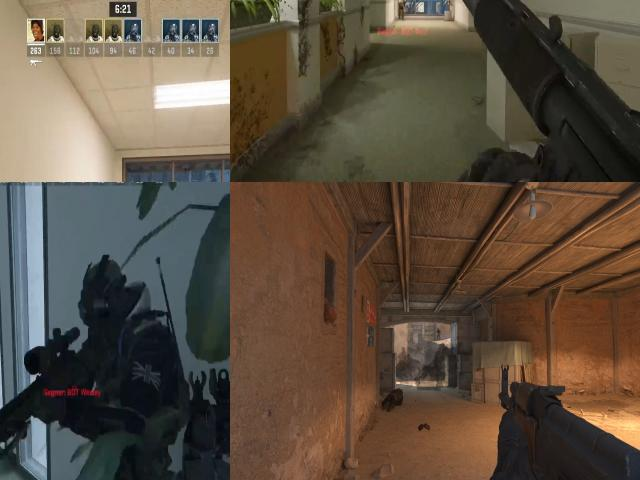CT: (59, 246, 190, 459), (437, 327, 441, 340)
CT-Head: (75, 256, 135, 342), (438, 327, 439, 330)
Dead: (383, 389, 405, 412)
T: (397, 0, 404, 11)
